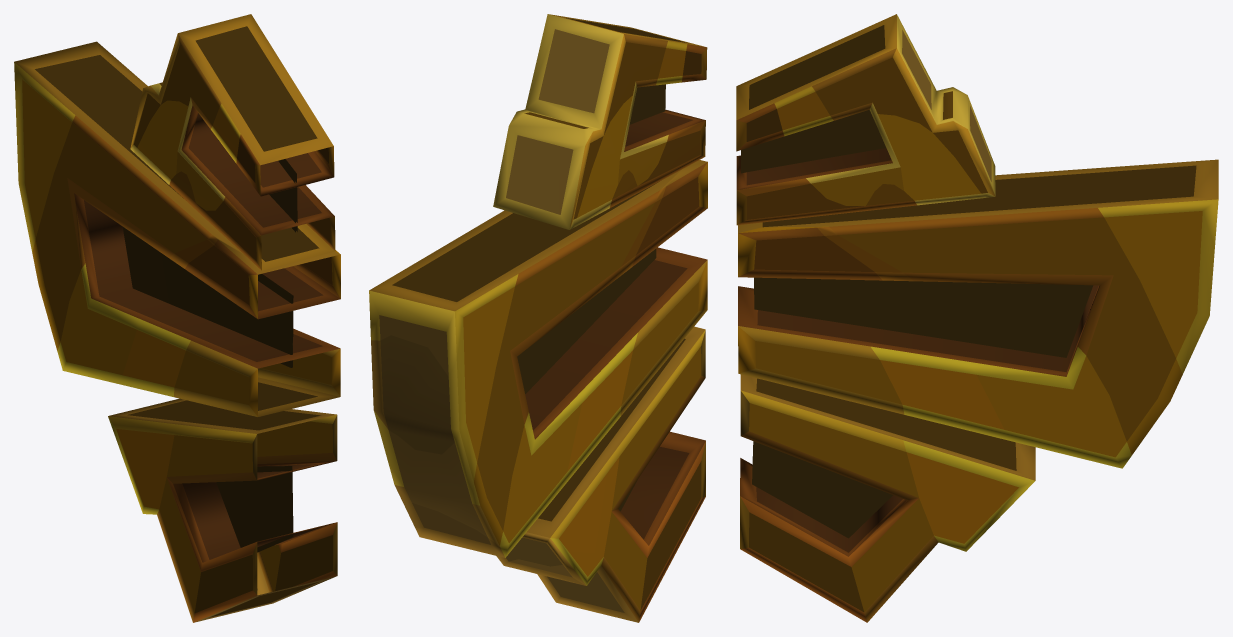
The model's file is PenglantianCannonBase.fbx.
The picture shows the model from 3 angles, left to right: view 1: azimuth 30°, elevation 25°; view 2: azimuth 150°, elevation 25°; view 3: azimuth 270°, elevation 25°; orthographic projection. The views are drawn at different scales.
Parts seen in each view (by area): view 1: PenglantianCannonBase; view 2: PenglantianCannonBase; view 3: PenglantianCannonBase.
Part boxes in pixels (x1,y1,x2,y2): PenglantianCannonBase: (14, 14, 340, 622); PenglantianCannonBase: (369, 14, 707, 622); PenglantianCannonBase: (736, 14, 1218, 622).
Bounding box in the file's own units: 20 × 134 × 102.
